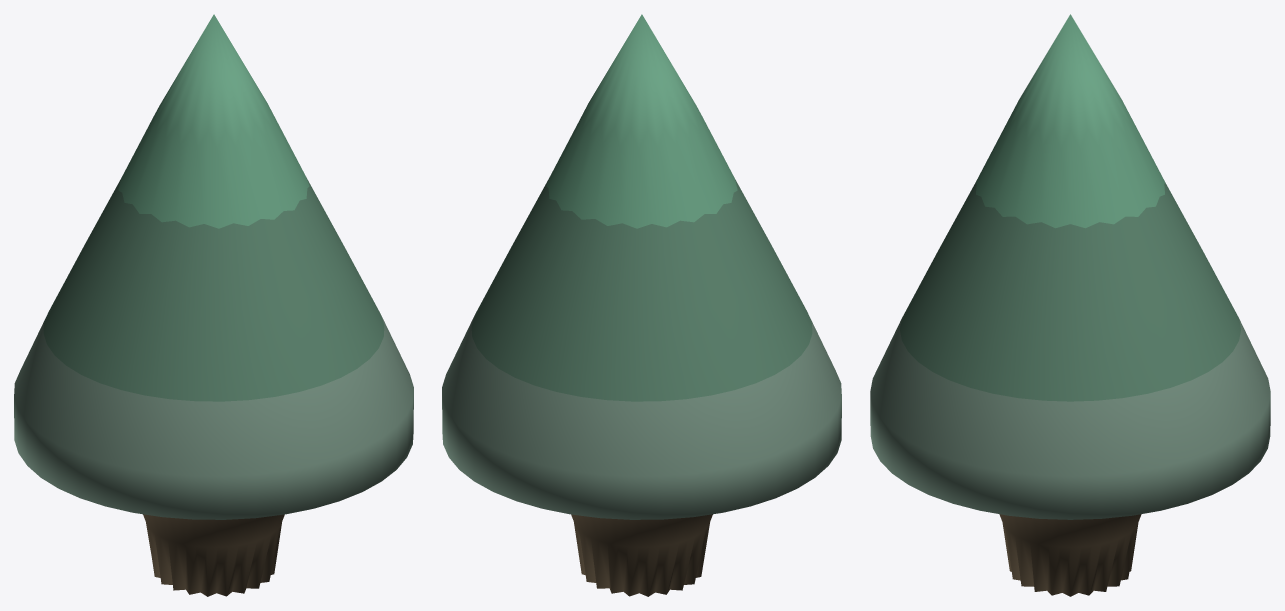
File: trad.fbx
The picture shows the model from 3 angles, left to right: view 1: azimuth 30°, elevation 25°; view 2: azimuth 150°, elevation 25°; view 3: azimuth 270°, elevation 25°; orthographic projection.
Parts seen in each view (by area): view 1: pCone1; view 2: pCone1; view 3: pCone1.
Part boxes in pixels (box(x1,y1,x2,y2)): pCone1: box(14, 14, 413, 596); pCone1: box(442, 14, 841, 596); pCone1: box(870, 14, 1270, 596).
Bounding box in the file's own units: 3.7 × 5.68 × 3.7.
